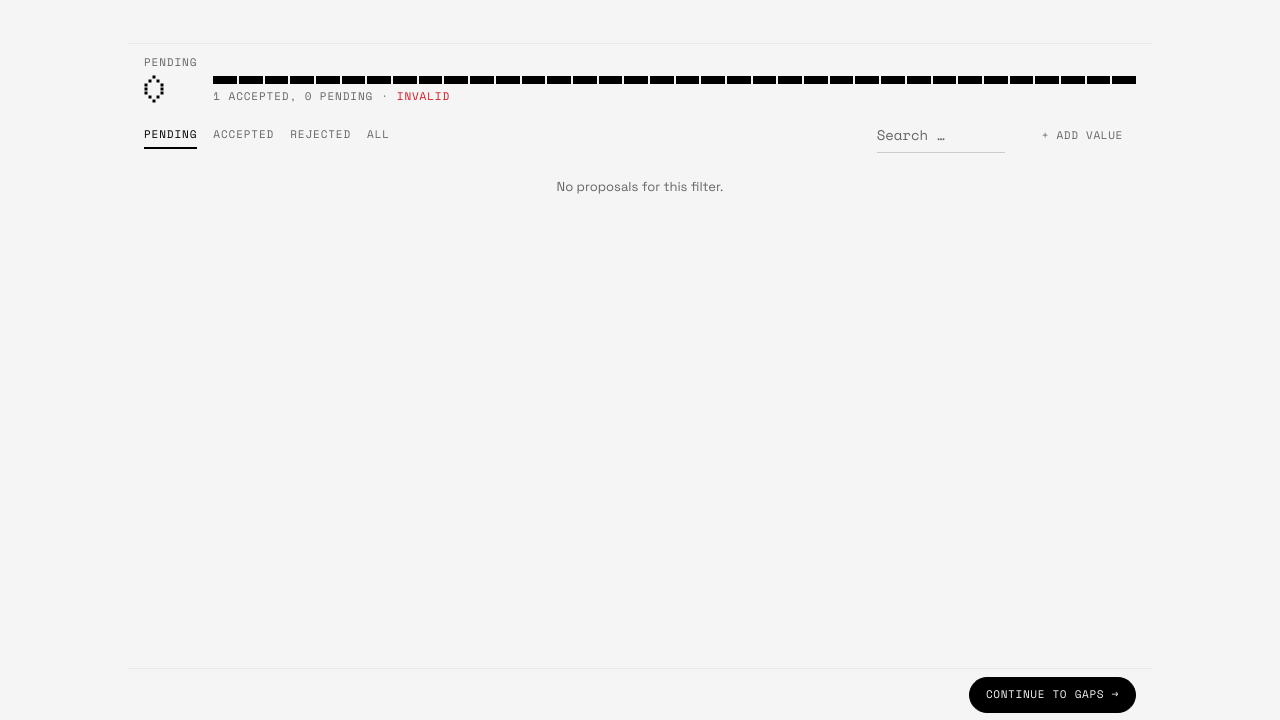
it: ReviewView › summarizes the accepted candidate rather than the first proposal
Step 1. Click the radio button with test id "filter-accepted" → (244, 135), box [213, 121, 274, 149]
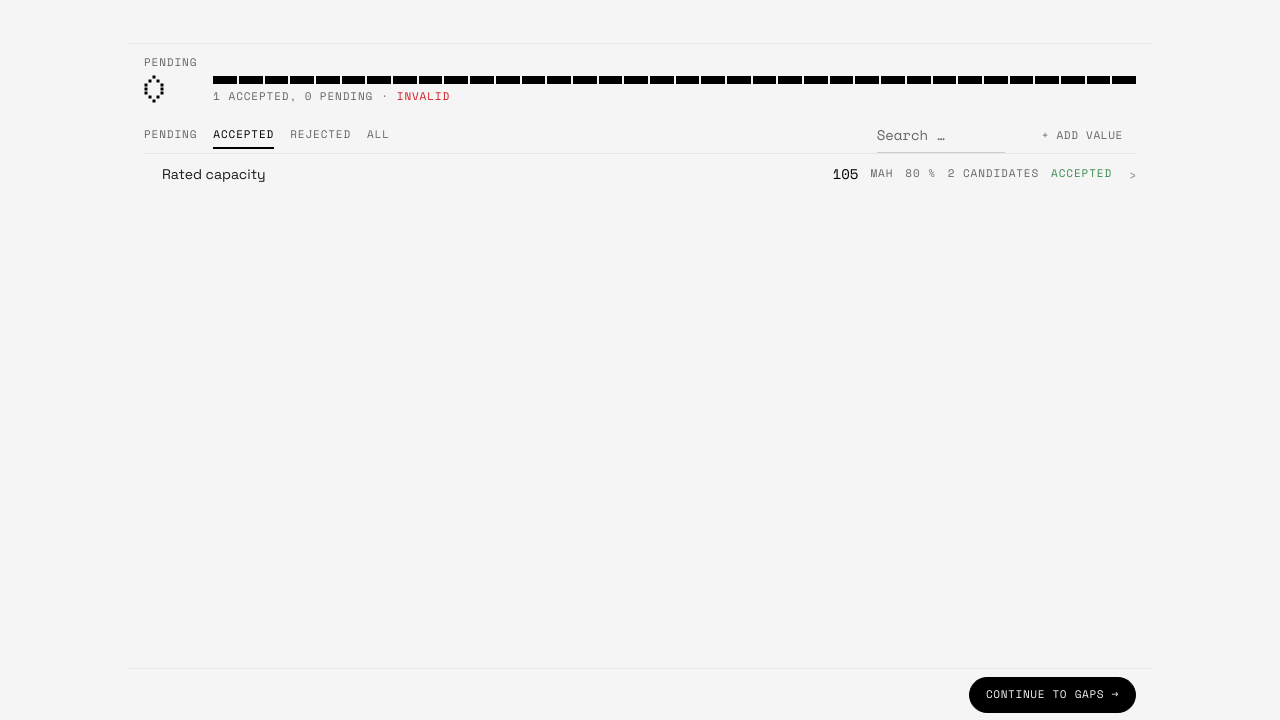
Check: the button with test id "group" shows "105", box [144, 153, 1136, 193]
Check: the button with test id "group" shows "mAh", box [144, 153, 1136, 193]
Check: the button with test id "group" shows "80 %", box [144, 153, 1136, 193]
